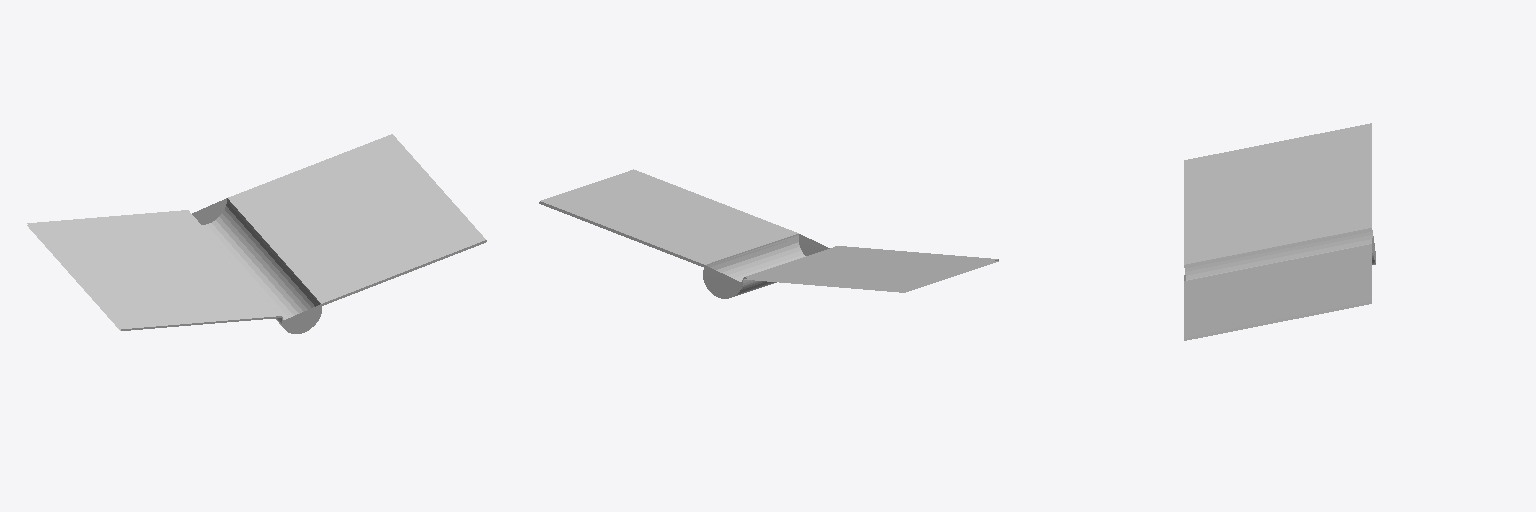
File: halfpipe.obj
3 renders of one model, left to right at view 1: azimuth 30°, elevation 25°; view 2: azimuth 150°, elevation 25°; view 3: azimuth 270°, elevation 25°, orthographic.
Visible parts, largest first — view 1: BezierCircle.001_CUBezierCircle.001; view 2: BezierCircle.001_CUBezierCircle.001; view 3: BezierCircle.001_CUBezierCircle.001.
Part boxes in pixels (x1,y1,x2,y2): BezierCircle.001_CUBezierCircle.001: (27,134,486,333); BezierCircle.001_CUBezierCircle.001: (539,169,998,298); BezierCircle.001_CUBezierCircle.001: (1184,123,1375,340).
Bounding box in the file's own units: 40.03 × 9.22 × 18.26.